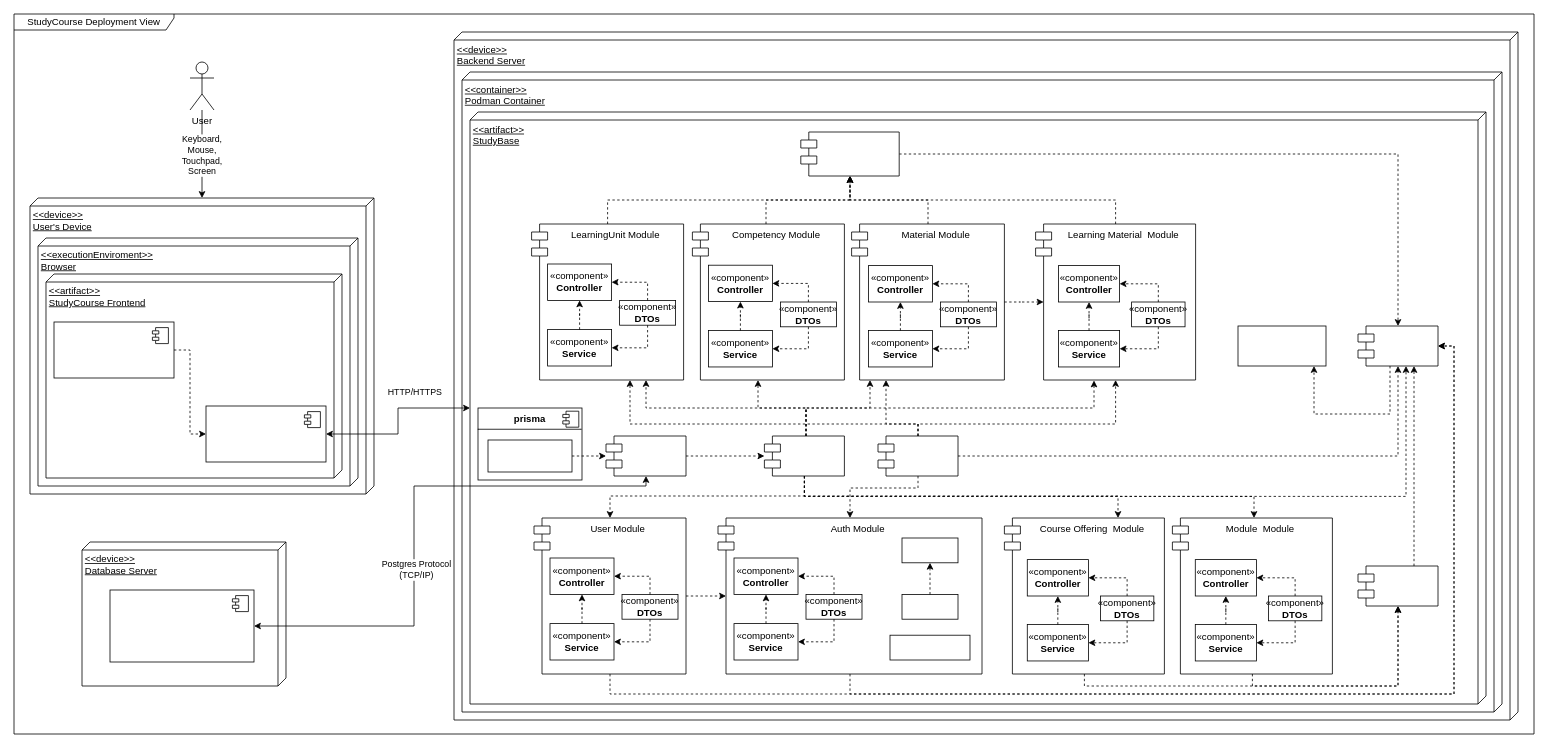
Image size: 1548x748. Some labels were removed from this diagram. Here are the shapes that lost their labels. From the top down, the centre of each, then its label:
At (x=849, y=153): "LCMS Module".
At (x=113, y=349): "«component» app/ (UI)".
At (x=1281, y=345): "«component» main.ts".
At (x=1397, y=345): "App Module".
At (x=265, y=433): "«component» shared/ (services)".
At (x=529, y=455): "<<DB Schema>> schema.prisma".
At (x=645, y=455): "Prisma Client".
At (x=804, y=455): "Prisma Module".
At (x=917, y=455): "Config Module".
At (x=929, y=550): "«component» guards".
At (x=1397, y=585): "Plan Module".
At (x=181, y=625): "«Database» StudyBase DB (PostgreSQL)".
At (x=929, y=606): "«component» strategies".
At (x=929, y=647): "«component» Public decorator".
